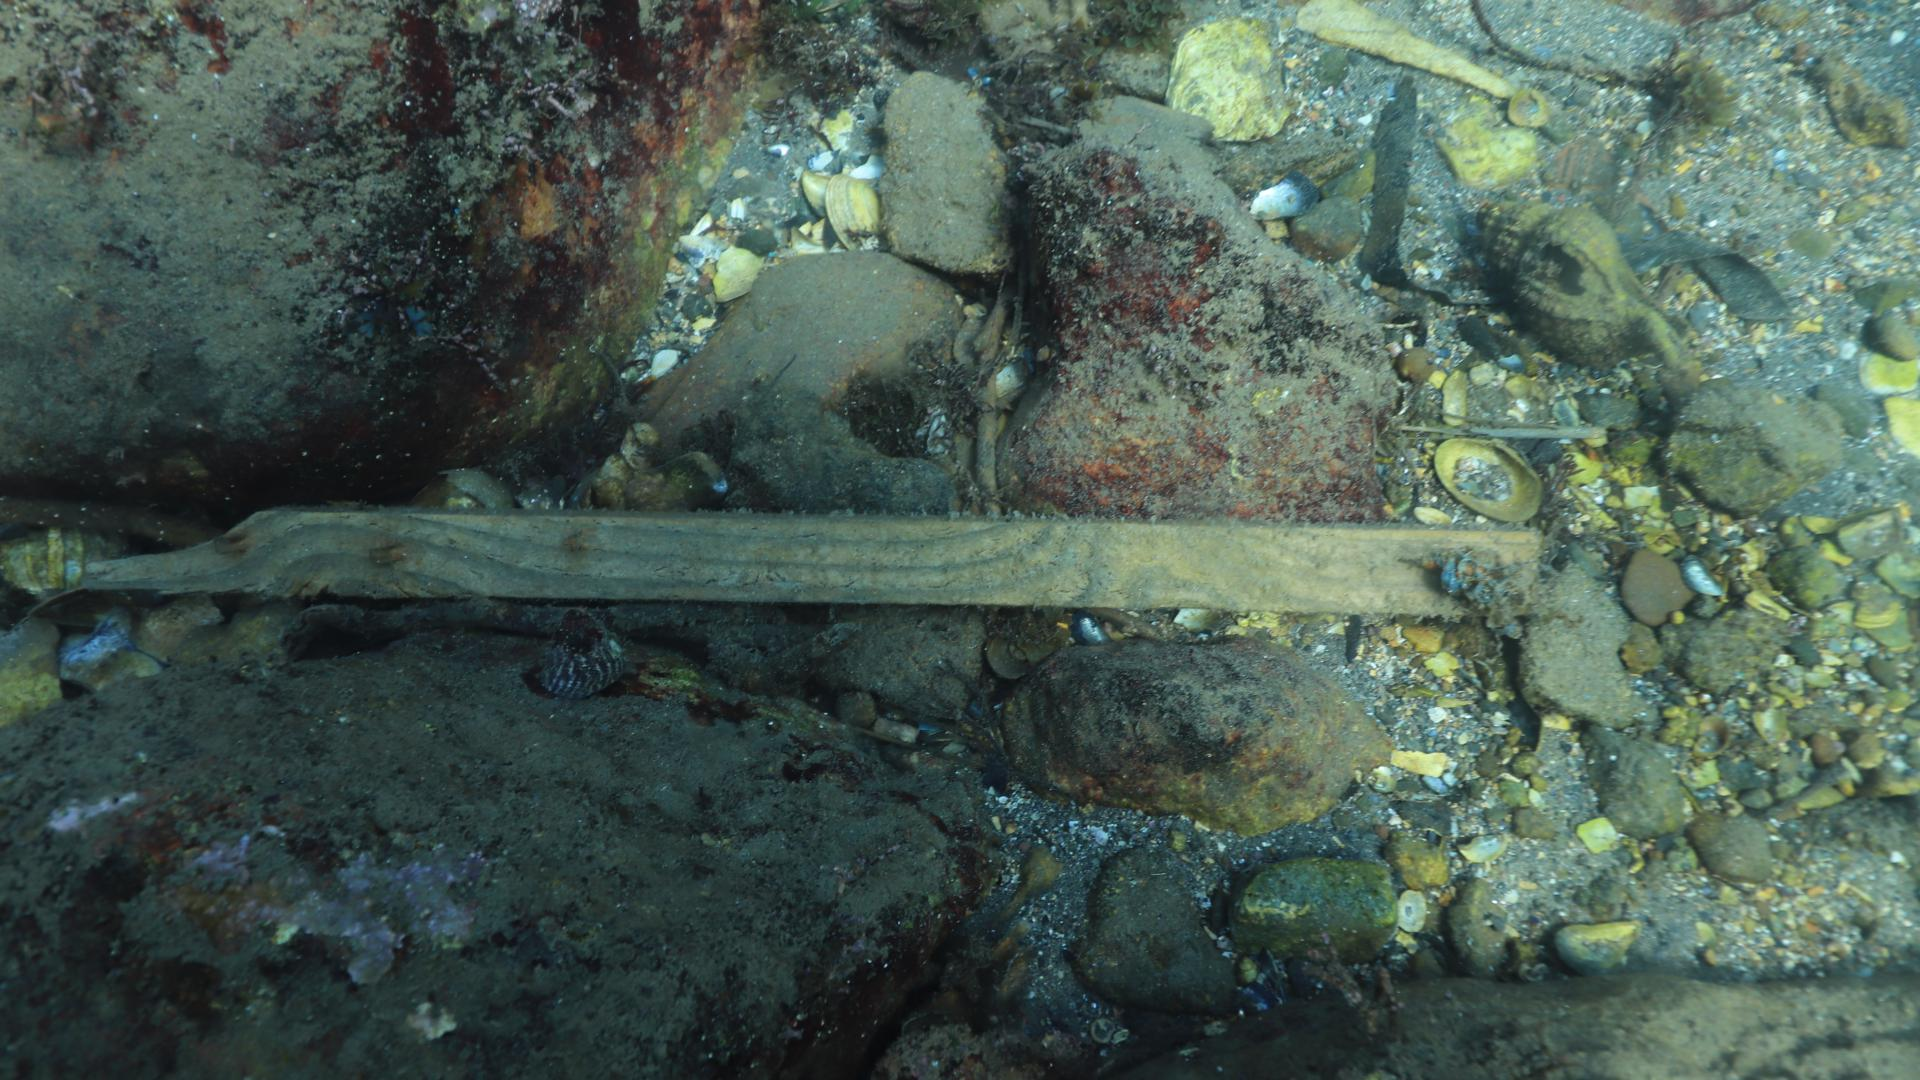wood: (69, 501, 1547, 632)
